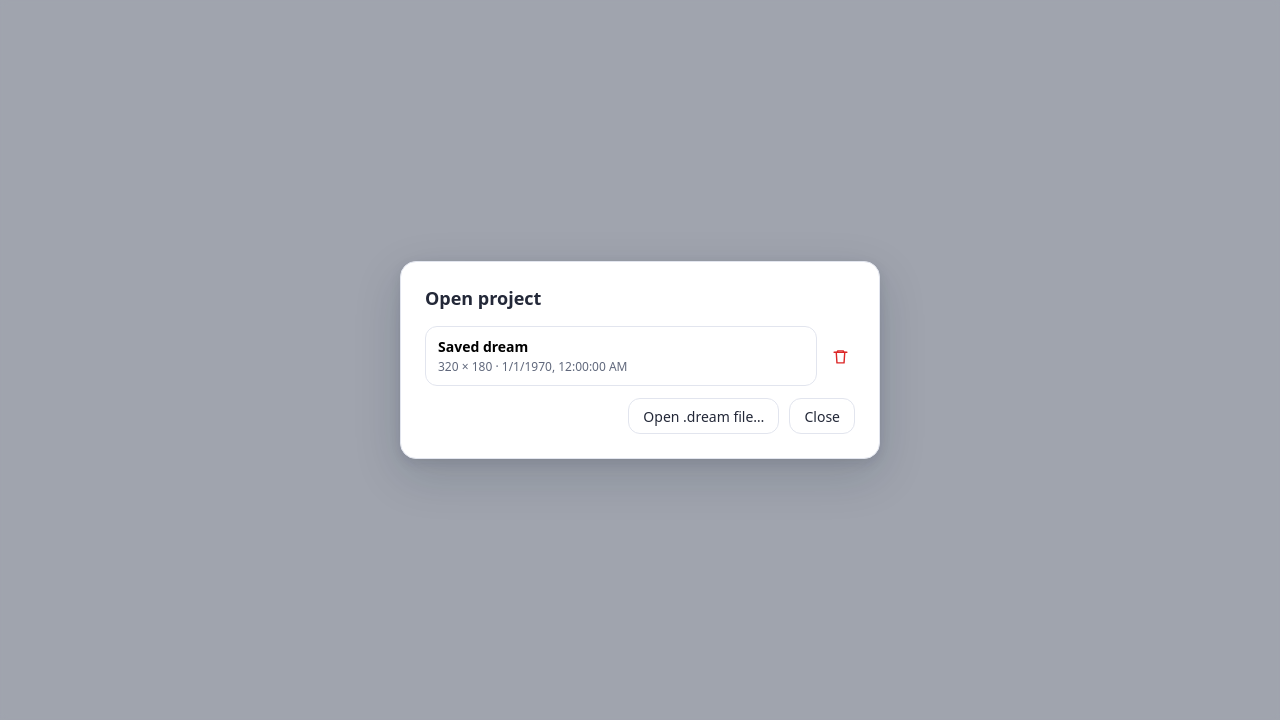
OpenDialog project progress › keeps current work and explains when a saved project is missing
The image size is (1280, 720).
Click the button "Saved dream 320 × 180 · 1/1/1970, 12:00:00 AM": (621, 356) [425, 326, 817, 386]
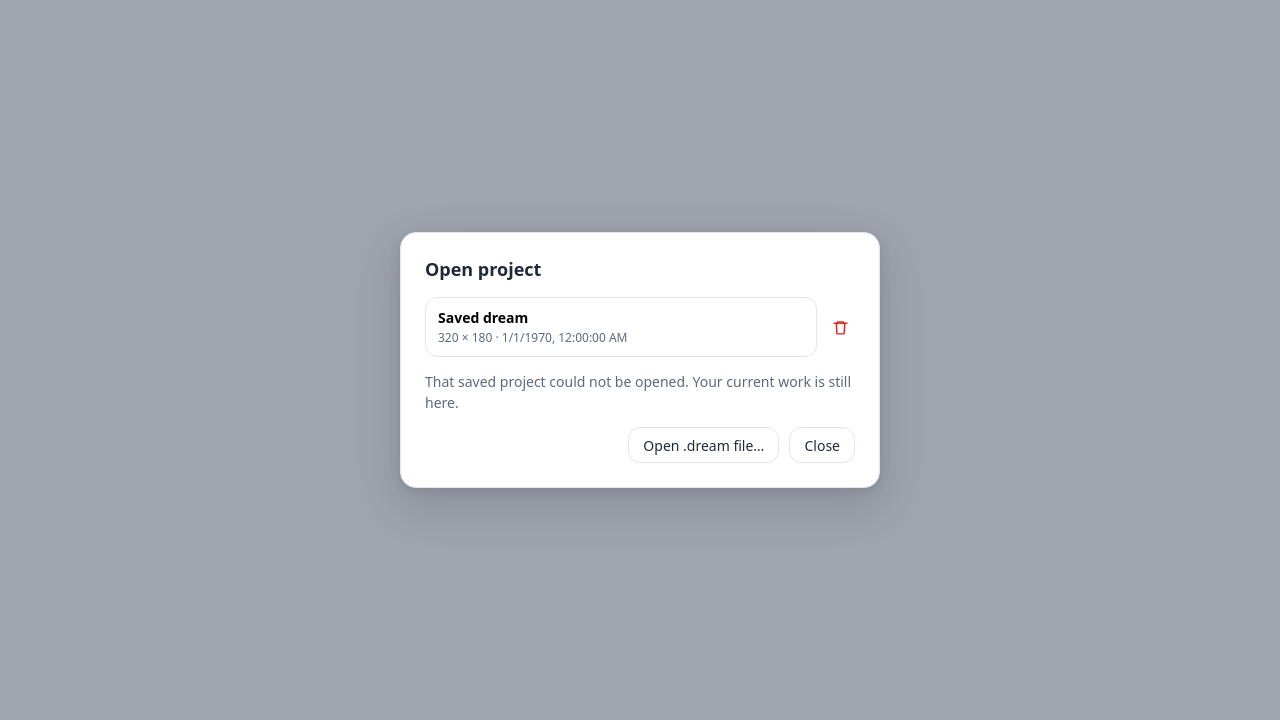
Check: the text "That saved project could not be opened. Your current work is still here." is shown, box [425, 371, 855, 413]
